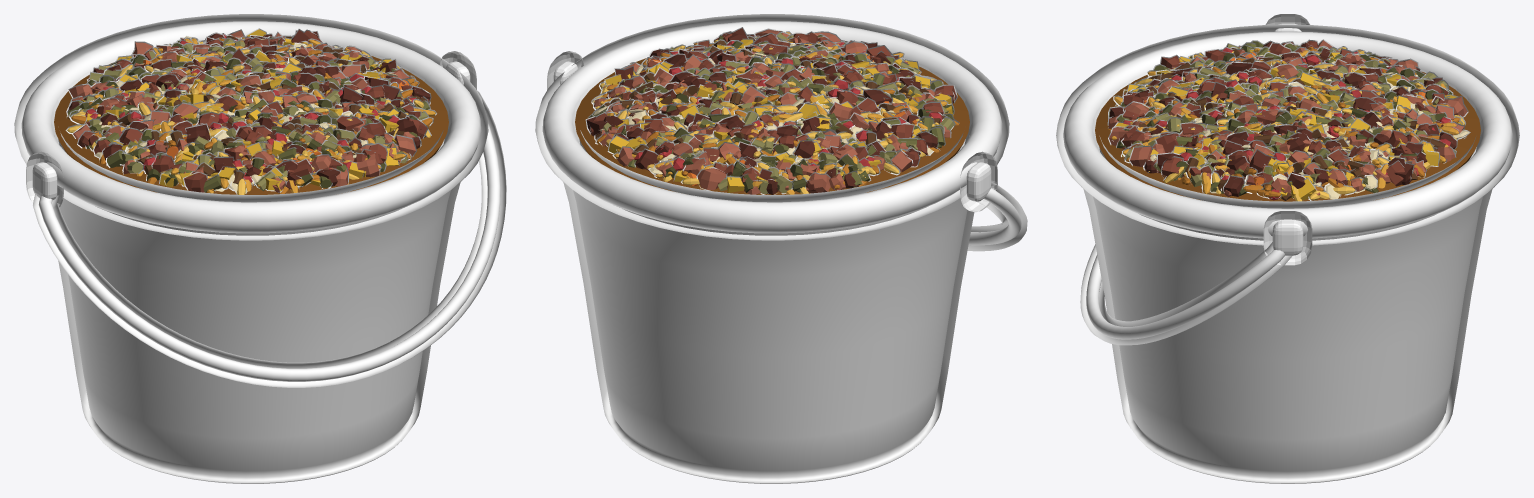
The model's file is eimer-mischungen.glb.
3 views of the same model, side by side, from view 1: azimuth 30°, elevation 25°; view 2: azimuth 150°, elevation 25°; view 3: azimuth 270°, elevation 25° (orthographic). The views are drawn at different scales.
Parts seen in each view (by area): view 1: koerper, Torus, buegel, mix2_ruebe_hell, mix2_ruebe_dunkel, mix1_haufen, mix2_ruebe_mittel, mix3_ruebe_mittel, mix2_muesli_gelb, mix3_ruebe_hell, mix3_ruebe_dunkel, mix1_hafer_hell (+25 smaller); view 2: koerper, Torus, mix2_ruebe_hell, mix2_ruebe_dunkel, mix1_haufen, mix2_ruebe_mittel, mix3_ruebe_mittel, mix3_ruebe_hell, mix3_ruebe_dunkel, mix2_muesli_gelb, buegel, mix1_hafer_hell (+26 smaller); view 3: koerper, Torus, buegel, mix2_ruebe_hell, mix2_ruebe_dunkel, mix2_ruebe_mittel, mix1_haufen, mix3_ruebe_mittel, mix3_ruebe_hell, mix3_ruebe_dunkel, mix2_muesli_gelb, Cube.001 (+26 smaller).
Part boxes in pixels (bbox=[...]): koerper: bbox=[58, 182, 460, 483]; Torus: bbox=[14, 14, 488, 240]; buegel: bbox=[33, 90, 506, 387]; mix2_ruebe_hell: bbox=[68, 35, 430, 192]; mix2_ruebe_dunkel: bbox=[83, 29, 431, 186]; mix1_haufen: bbox=[51, 42, 451, 194]; mix2_ruebe_mittel: bbox=[77, 29, 428, 192]; mix3_ruebe_mittel: bbox=[93, 36, 421, 172]; mix2_muesli_gelb: bbox=[99, 37, 399, 191]; mix3_ruebe_hell: bbox=[68, 29, 414, 173]; mix3_ruebe_dunkel: bbox=[66, 30, 421, 189]; mix1_hafer_hell: bbox=[65, 40, 431, 184]; koerper: bbox=[563, 182, 974, 483]; Torus: bbox=[535, 14, 1009, 240]; mix2_ruebe_hell: bbox=[597, 28, 951, 190]; mix2_ruebe_dunkel: bbox=[604, 27, 938, 190]; mix1_haufen: bbox=[572, 40, 972, 194]; mix2_ruebe_mittel: bbox=[590, 31, 957, 175]; mix3_ruebe_mittel: bbox=[625, 39, 944, 183]; mix3_ruebe_hell: bbox=[593, 36, 939, 194]; mix3_ruebe_dunkel: bbox=[585, 34, 920, 194]; mix2_muesli_gelb: bbox=[607, 33, 953, 192]; buegel: bbox=[967, 182, 1027, 251]; mix1_hafer_hell: bbox=[591, 38, 939, 194]; koerper: bbox=[1083, 189, 1492, 483]; Torus: bbox=[1056, 24, 1519, 245]; buegel: bbox=[1080, 242, 1292, 345]; mix2_ruebe_hell: bbox=[1107, 39, 1468, 200]; mix2_ruebe_dunkel: bbox=[1108, 40, 1457, 196]; mix2_ruebe_mittel: bbox=[1119, 39, 1445, 186]; mix1_haufen: bbox=[1092, 50, 1483, 201]; mix3_ruebe_mittel: bbox=[1131, 41, 1449, 181]; mix3_ruebe_hell: bbox=[1130, 52, 1456, 191]; mix3_ruebe_dunkel: bbox=[1126, 52, 1443, 184]; mix2_muesli_gelb: bbox=[1121, 47, 1458, 180]; Cube.001: bbox=[1263, 211, 1312, 265].
Size of the model in its own units: 43.09 by 30.39 by 39.4.
